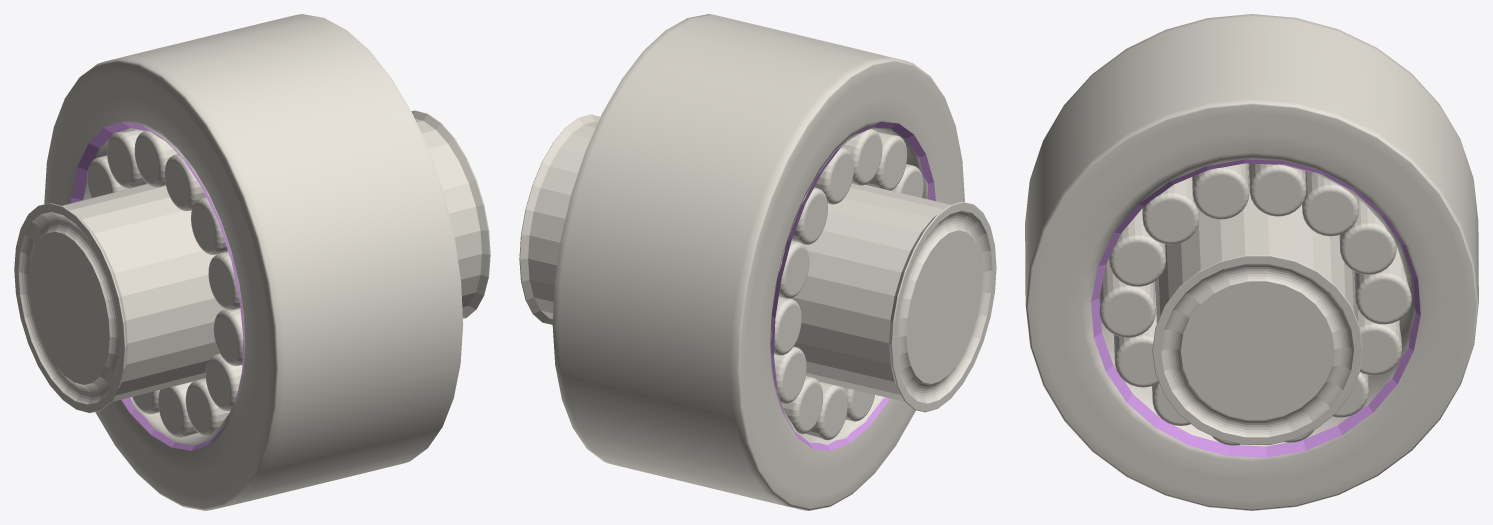
Rendered from Rocket arm, Cam Roller, BZ Pin .glb.
3 views of the same model, side by side, from view 1: azimuth 30°, elevation 25°; view 2: azimuth 150°, elevation 25°; view 3: azimuth 270°, elevation 25° (orthographic). The views are drawn at different scales.
Visible parts, largest first — view 1: Torus, mat_7, mat_5, mat_4; view 2: Torus, mat_7, mat_5, mat_4; view 3: Torus, mat_7, mat_5, mat_4.
Part boxes in pixels (x1,y1,x2,y2): Torus: (44,14,463,510); mat_7: (14,110,490,413); mat_5: (87,130,243,437); mat_4: (71,121,244,450); Torus: (552,14,964,510); mat_7: (519,114,996,412); mat_5: (771,129,923,440); mat_4: (771,121,935,450); Torus: (1025,14,1478,510); mat_7: (1152,183,1362,444); mat_5: (1099,163,1411,445); mat_4: (1091,159,1420,457).
Bounding box in the file's own units: 0.1604 × 0.1727 × 0.1728.
2 materials, 1 textured.
